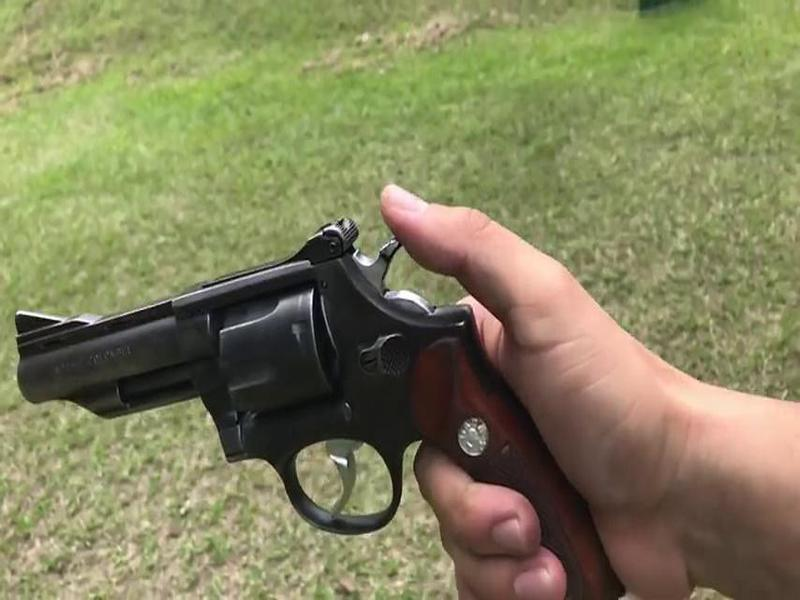Revolver: (11, 215, 513, 554)
